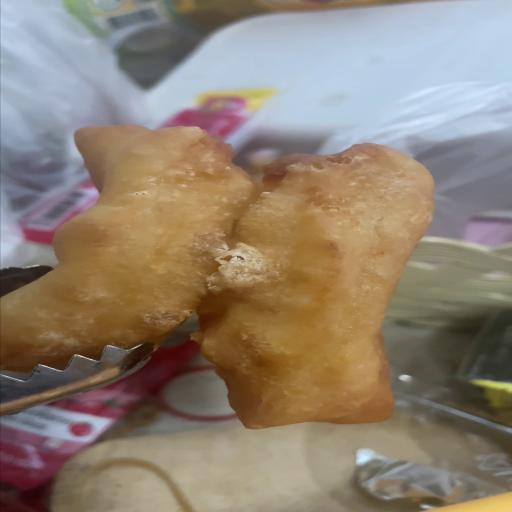street_golden_good: (194, 143, 434, 429)
